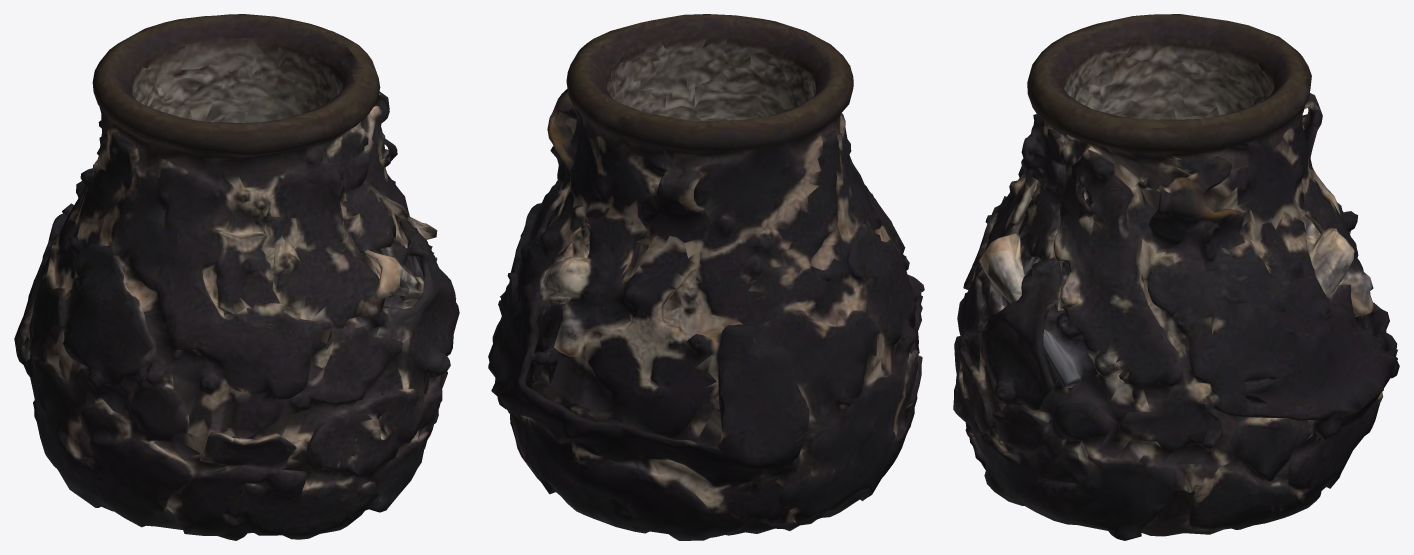
File: MaterialPlace_04.glb
3 views of the same model, side by side, from view 1: azimuth 30°, elevation 25°; view 2: azimuth 150°, elevation 25°; view 3: azimuth 270°, elevation 25° (orthographic).
Parts seen in each view (by area): view 1: Meshy_AI_Lava_Crust_Vessel_0529164754_texture; view 2: Meshy_AI_Lava_Crust_Vessel_0529164754_texture; view 3: Meshy_AI_Lava_Crust_Vessel_0529164754_texture.
Boxes of the visible parts, left/top/right/bottom form: Meshy_AI_Lava_Crust_Vessel_0529164754_texture: left=14, top=14, right=459, bottom=540; Meshy_AI_Lava_Crust_Vessel_0529164754_texture: left=488, top=14, right=924, bottom=540; Meshy_AI_Lava_Crust_Vessel_0529164754_texture: left=953, top=14, right=1399, bottom=540.
Size of the model in its own units: 1.55 by 1.64 by 1.64.
Materials: 1 (1 with a texture image).
